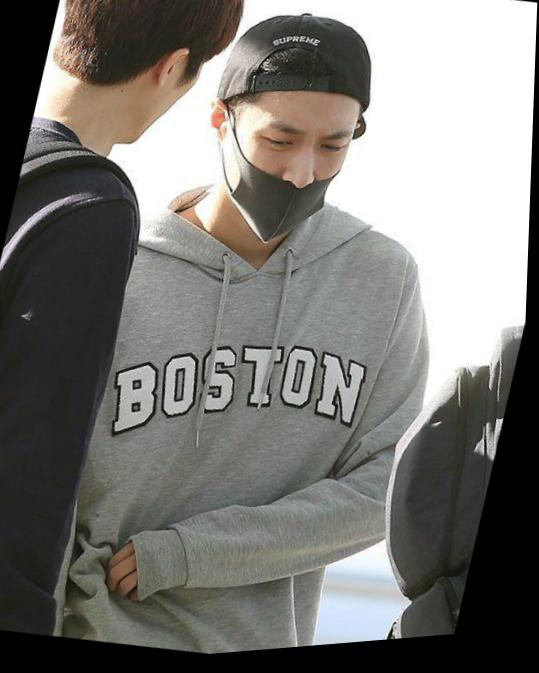WRONG: (223, 95, 359, 260)
